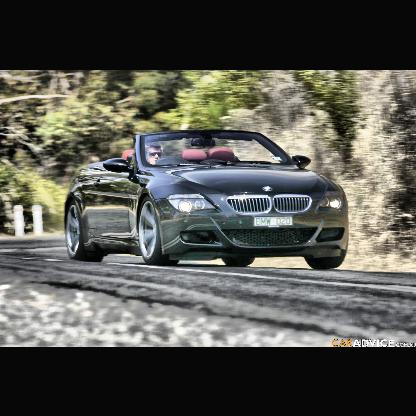BMW M6 Convertible 2010: (64, 132, 351, 271)
